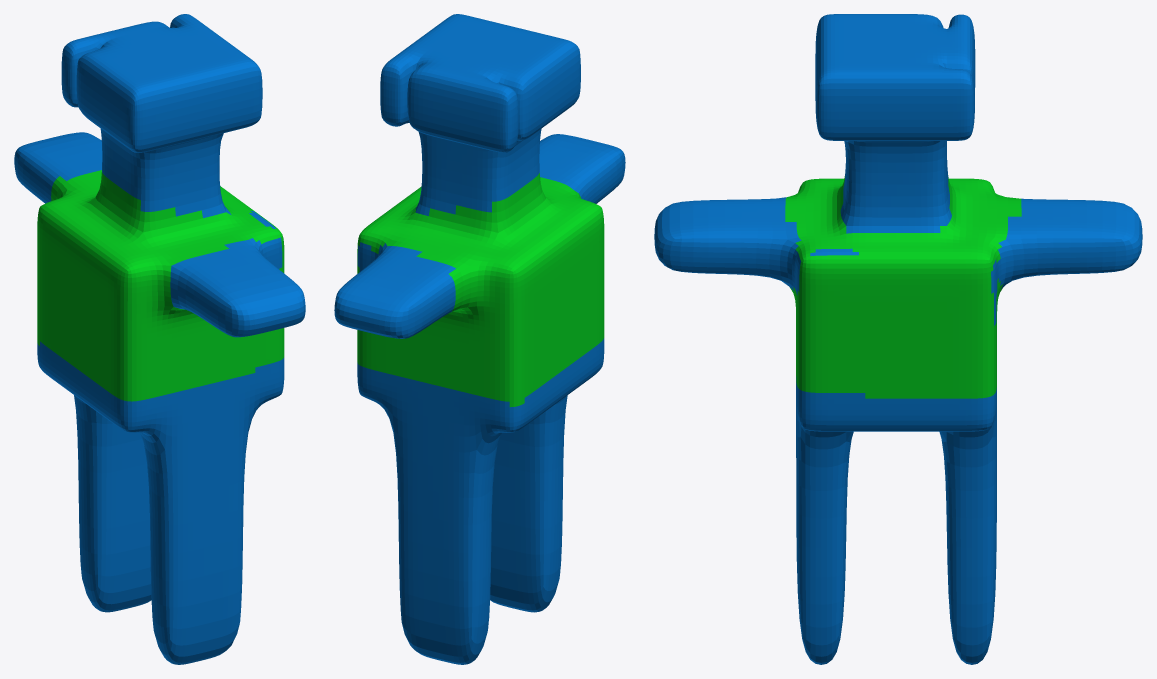
Rendered from Player.fbx.
The picture shows the model from 3 angles, left to right: view 1: azimuth 30°, elevation 25°; view 2: azimuth 150°, elevation 25°; view 3: azimuth 270°, elevation 25°; orthographic projection. The views are drawn at different scales.
Visible parts, largest first — view 1: Cube; view 2: Cube; view 3: Cube.
Part boxes in pixels (left/top/right/bottom): Cube: left=14, top=14, right=305, bottom=664; Cube: left=334, top=14, right=625, bottom=664; Cube: left=654, top=14, right=1142, bottom=664.
Size of the model in its own units: 2 by 6.73 by 4.86.
